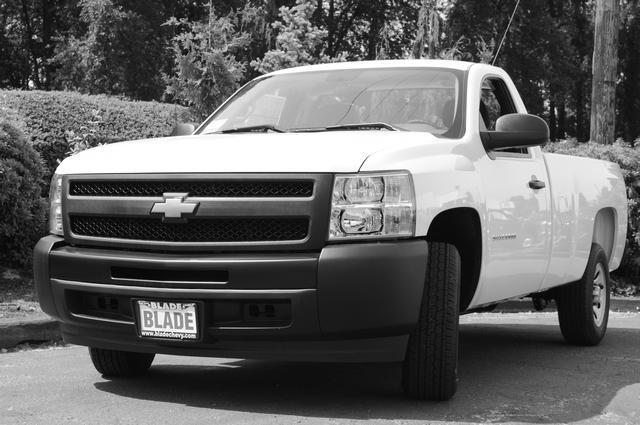car: (32, 61, 628, 398)
